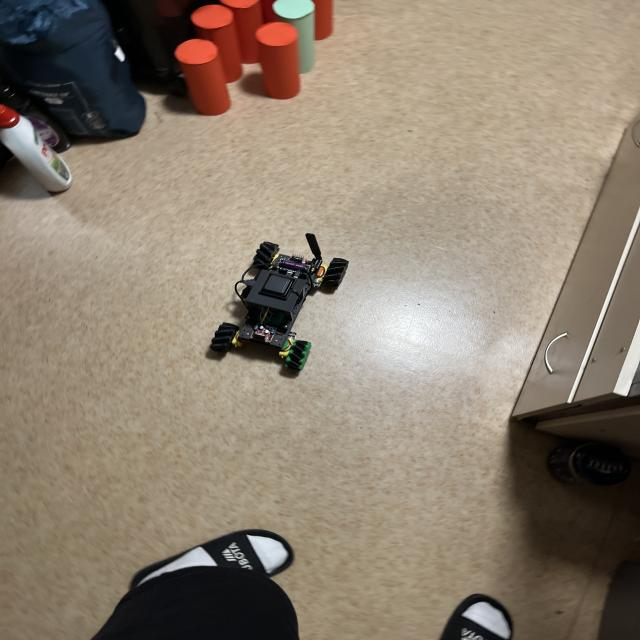robot: (210, 233, 348, 370)
